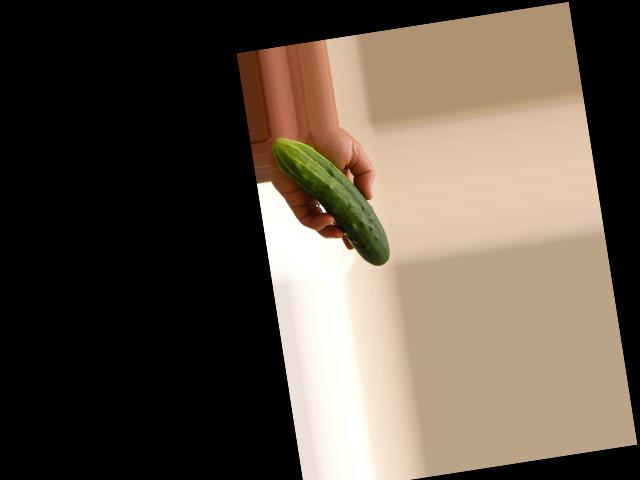cucumber: (270, 125, 391, 279)
